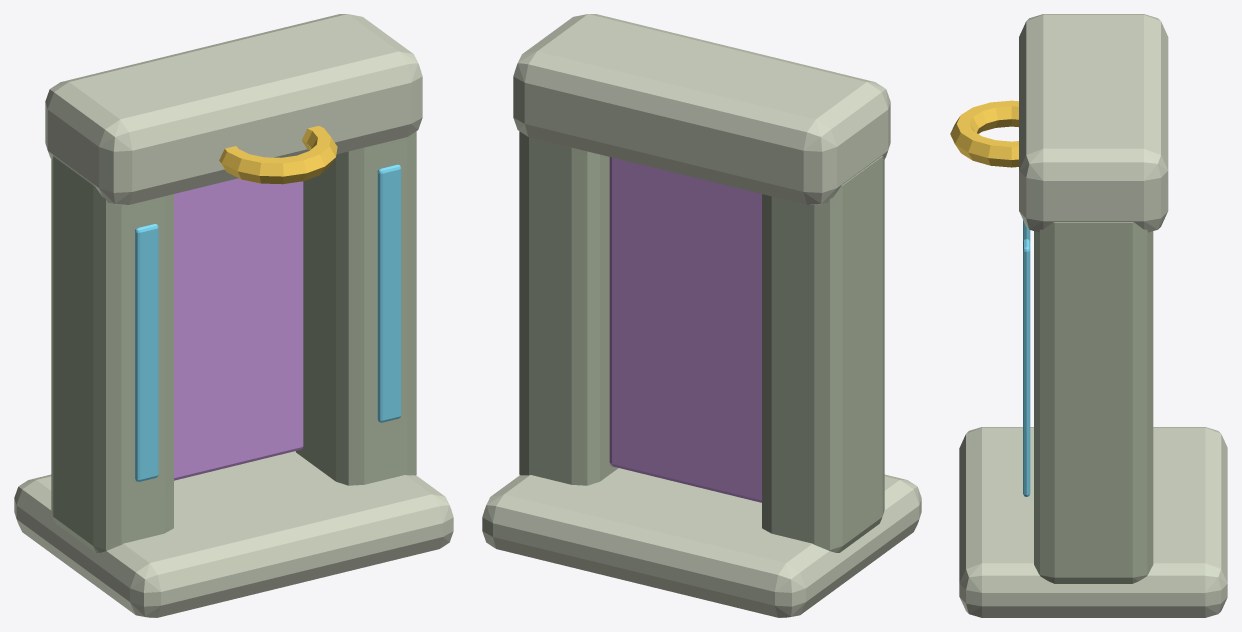
The model's file is SpawnPortal.fbx.
3 views of the same model, side by side, from view 1: azimuth 30°, elevation 25°; view 2: azimuth 150°, elevation 25°; view 3: azimuth 270°, elevation 25° (orthographic).
Visible parts, largest first — view 1: SpawnPortal.001; view 2: SpawnPortal.001; view 3: SpawnPortal.001.
Boxes of the visible parts, left/top/right/bottom form: SpawnPortal.001: left=14, top=14, right=453, bottom=617; SpawnPortal.001: left=482, top=14, right=921, bottom=617; SpawnPortal.001: left=950, top=14, right=1227, bottom=617.
Size of the model in its own units: 98 by 139 by 74.5.
